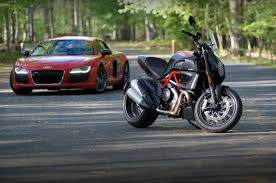Car: (10, 36, 129, 94)
Motorbike: (123, 31, 242, 132)
